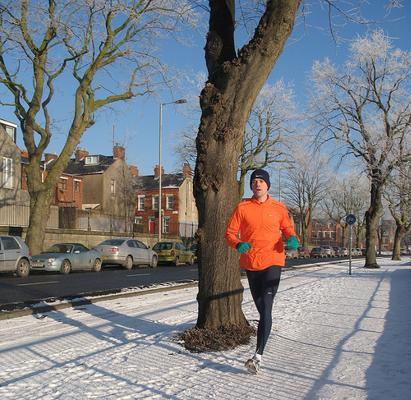person: (225, 169, 301, 375)
